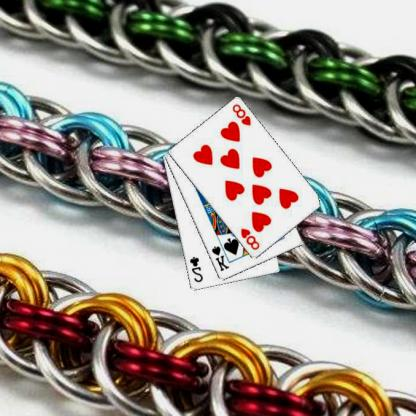2C: (189, 254, 206, 283)
8H: (240, 226, 263, 252), (231, 102, 254, 127)
KS: (210, 244, 232, 272)
